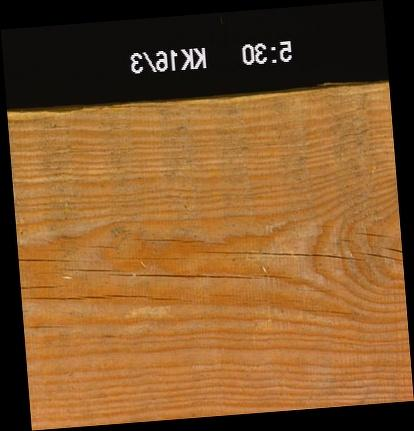split: (199, 240, 361, 266), (108, 265, 253, 284), (106, 288, 178, 305), (354, 246, 401, 267), (115, 252, 195, 264), (133, 232, 203, 245), (20, 291, 109, 301), (105, 101, 175, 110), (17, 254, 69, 263), (359, 227, 395, 239), (65, 265, 126, 271), (76, 242, 120, 250), (19, 282, 64, 288), (26, 322, 70, 328)
